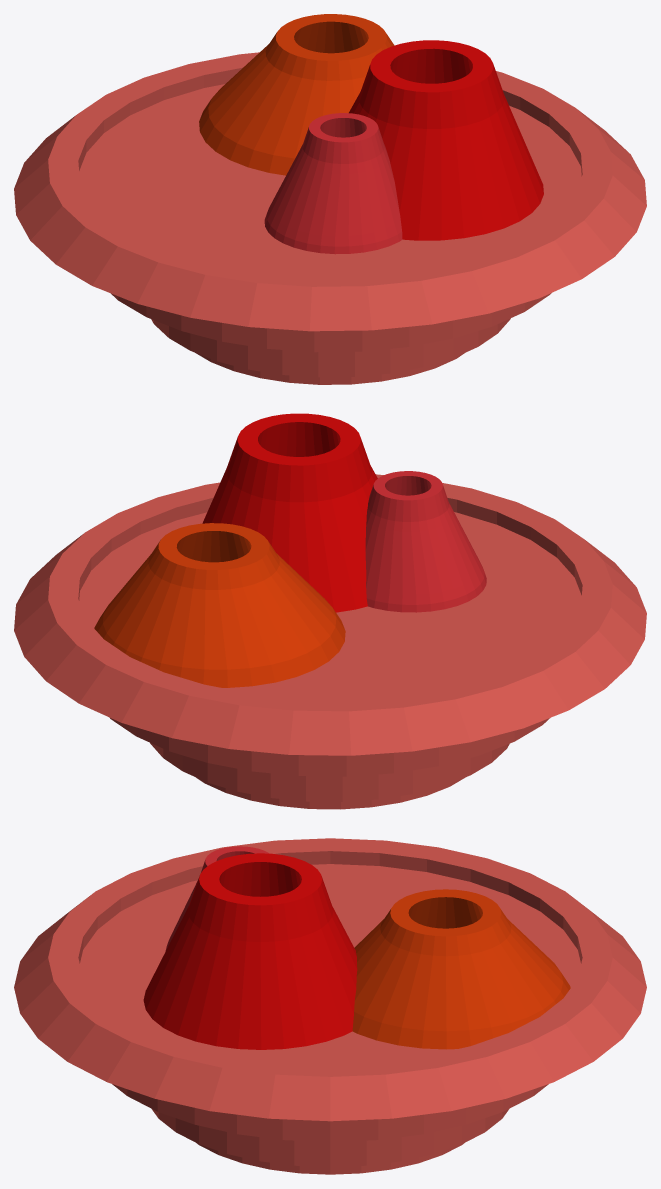
The model's file is red.fbx.
The picture shows the model from 3 angles, top to bottom: view 1: azimuth 30°, elevation 25°; view 2: azimuth 150°, elevation 25°; view 3: azimuth 270°, elevation 25°; orthographic projection.
Visible parts, largest first — view 1: Cone, Cylinder, Cylinder.002, Cylinder.001; view 2: Cone, Cylinder.002, Cylinder, Cylinder.001; view 3: Cone, Cylinder, Cylinder.002, Cylinder.001.
Part boxes in pixels (x1,y1,x2,y2): Cone: (14, 52, 646, 384); Cylinder: (349, 40, 543, 240); Cylinder.002: (199, 14, 394, 175); Cylinder.001: (264, 113, 402, 254); Cone: (14, 474, 646, 809); Cylinder.002: (94, 523, 345, 687); Cylinder: (202, 413, 377, 612); Cylinder.001: (365, 471, 486, 612); Cone: (14, 838, 646, 1174); Cylinder: (143, 853, 357, 1049); Cylinder.002: (352, 889, 570, 1049); Cylinder.001: (165, 846, 268, 951).
Size of the model in its own units: 890 by 496 by 890.
